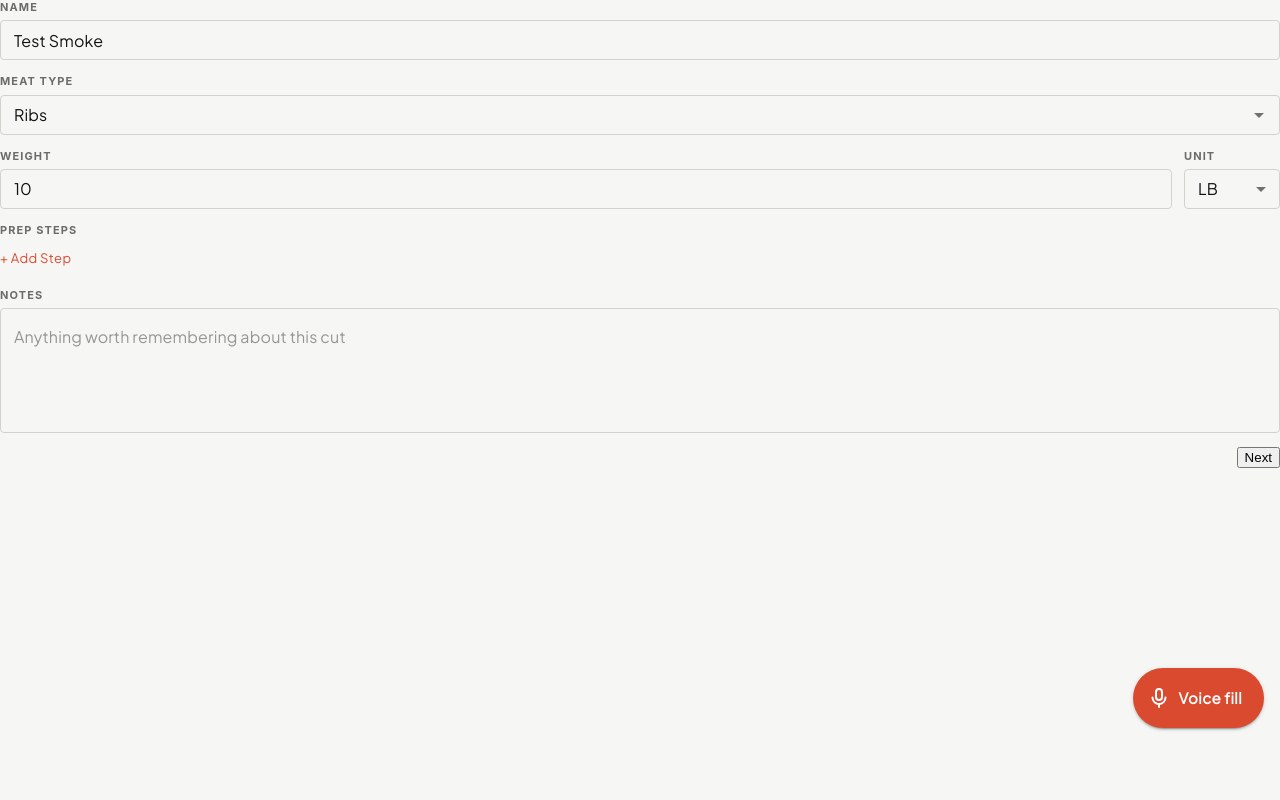
Test: Voice Fill with a speech model and no extraction model yet › a Ramble is heard live, and Done talking ends in the problem state
The width and height of the screenshot is (1280, 800).
Expected: the field showing "Test Smoke" is shown, [0,20,1279,60]
Click the button "Voice fill" at (1198, 698), box [1133,668,1264,728]
Wait 10 ms
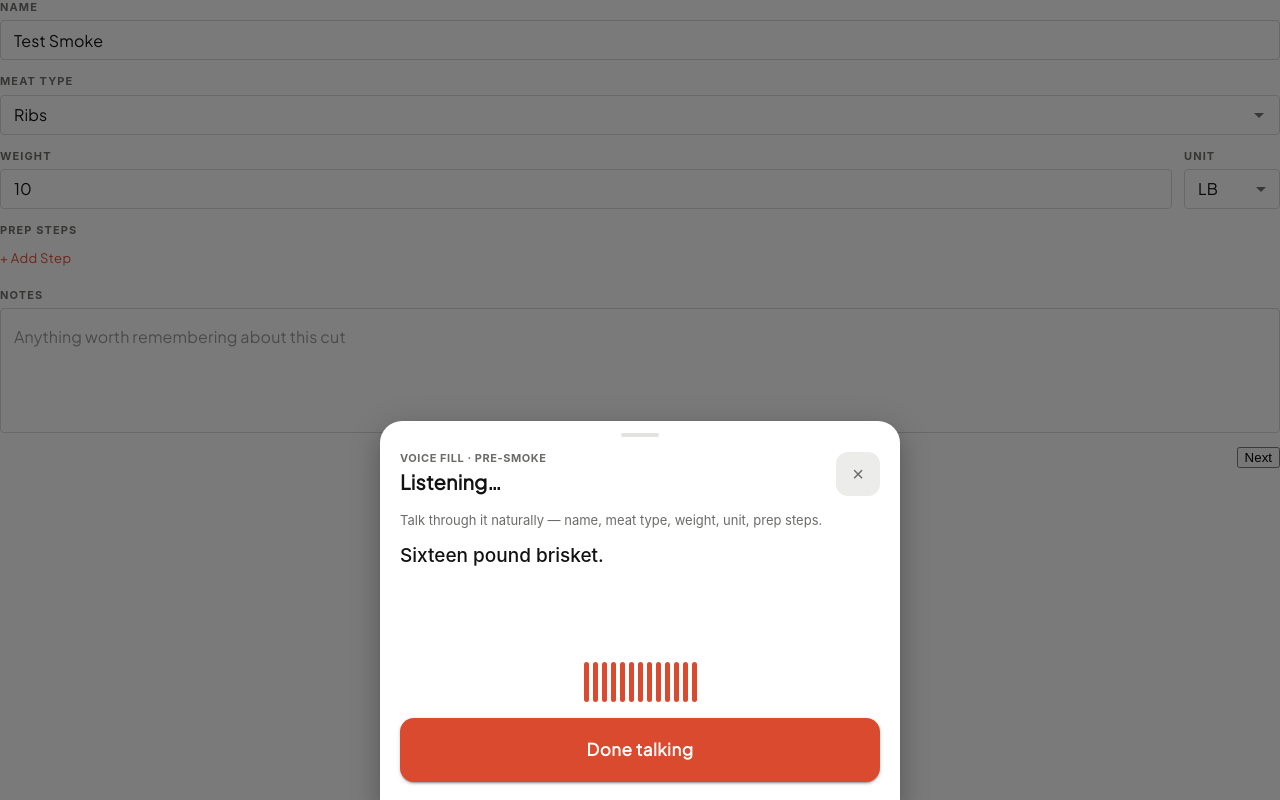
Result: the text with test id "voice-fill-live-transcript" reads "Sixteen pound brisket." at [400,544,604,567]
Click the button "Done talking" at (640, 750), box [400,718,880,782]
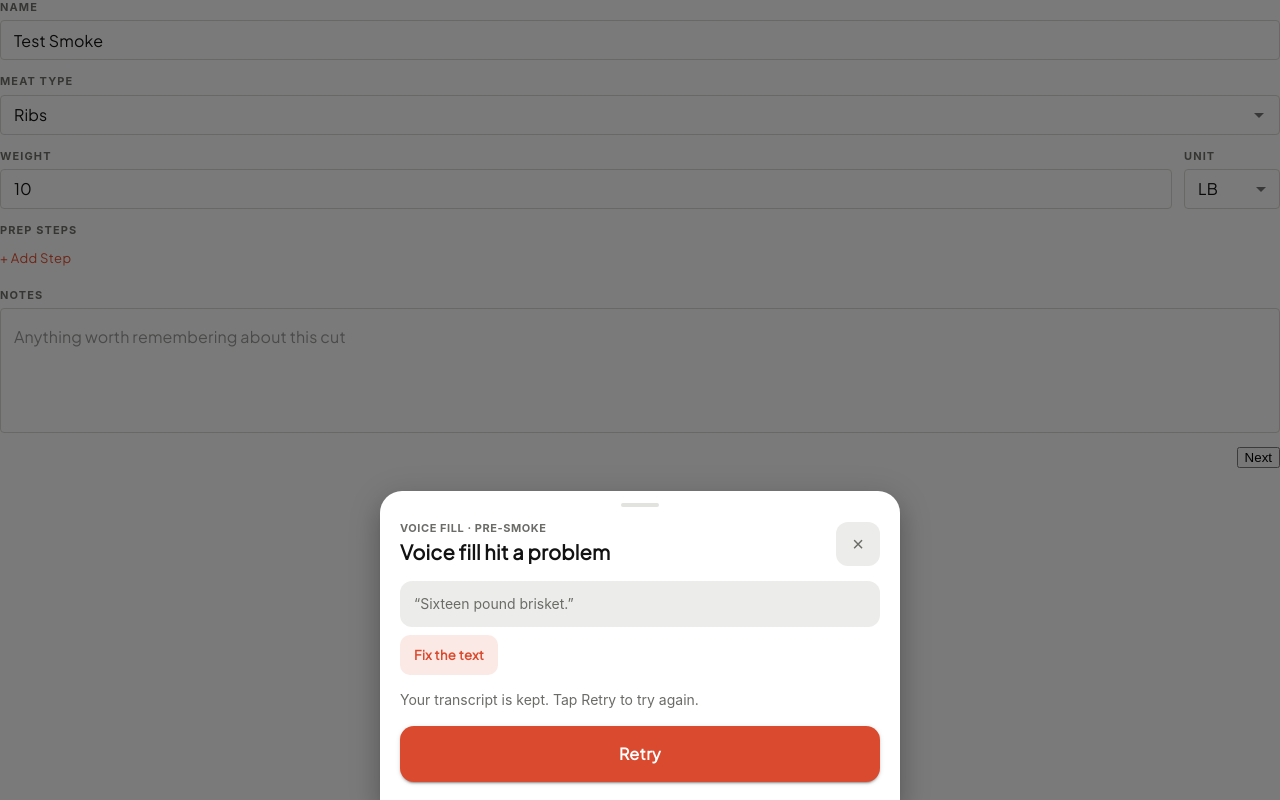
Expected: the field showing "Test Smoke" is shown, [0,20,1279,60]
Result: the heading with test id "voice-fill-title" reads "Voice fill hit a problem" at [400,539,610,564]
